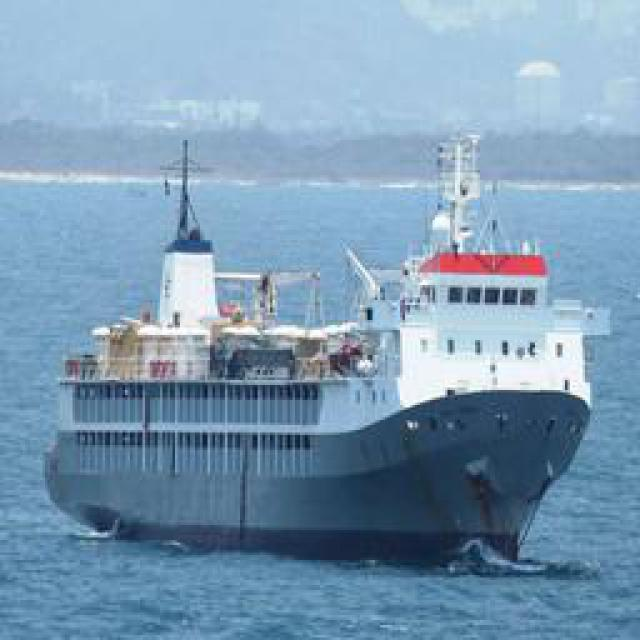Ship: (48, 106, 603, 559)
